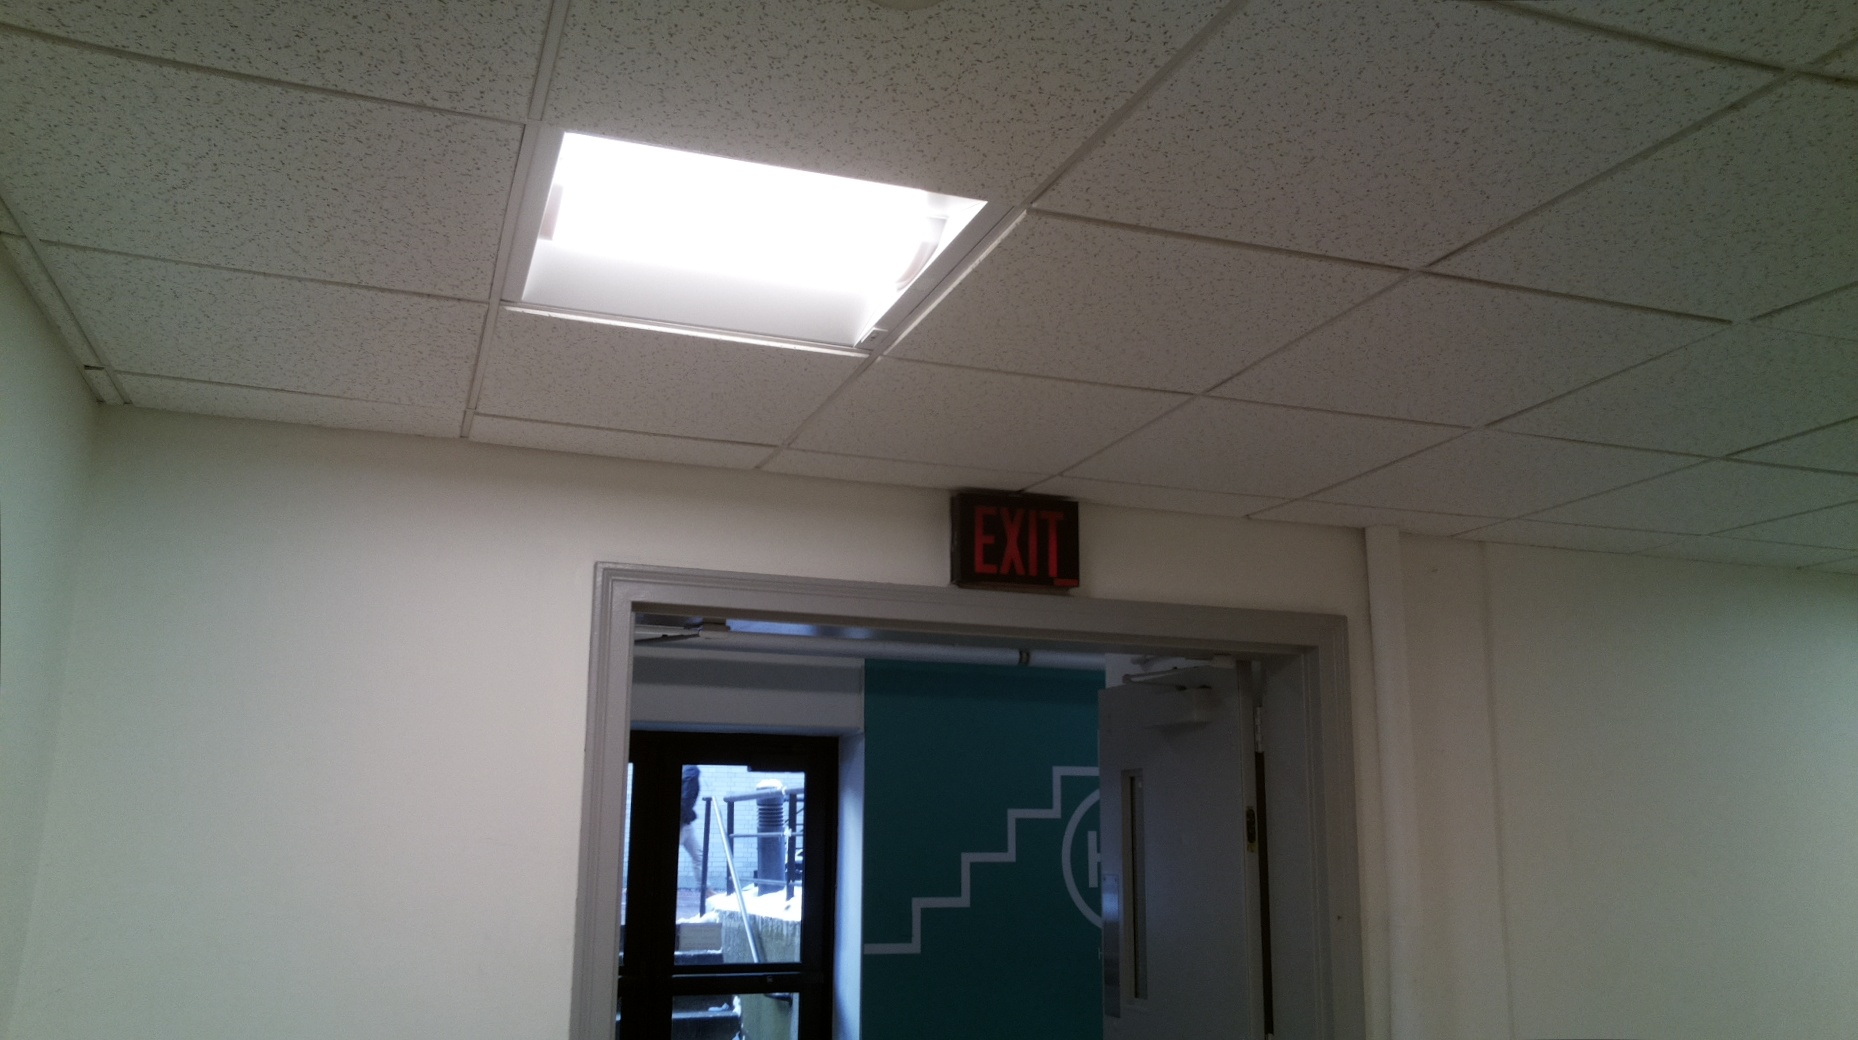exit sign: (942, 484, 1083, 598)
